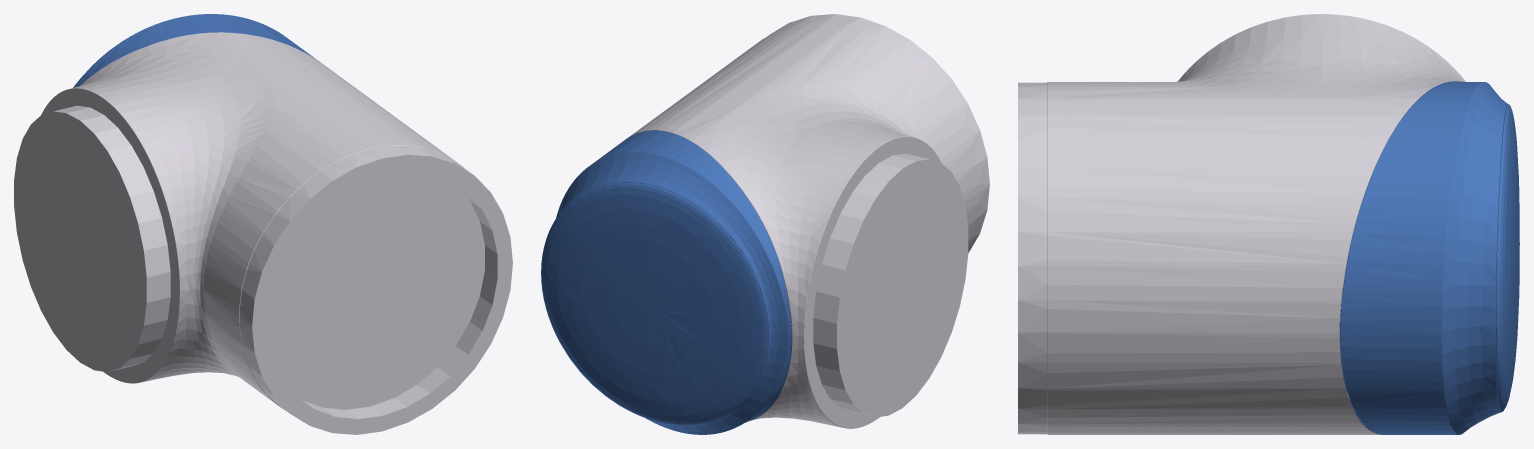
3 renders of one model, left to right at view 1: azimuth 30°, elevation 25°; view 2: azimuth 150°, elevation 25°; view 3: azimuth 270°, elevation 25°, orthographic. The views are drawn at different scales.
Visible parts, largest first — view 1: link1; view 2: link1; view 3: link1.
Boxes of the visible parts, x1,y1,x2,y2 form: link1: (14,14,512,434); link1: (541,14,989,434); link1: (1018,14,1519,434).
Bounding box in the file's own units: 0.1389 × 0.1705 × 0.12.
